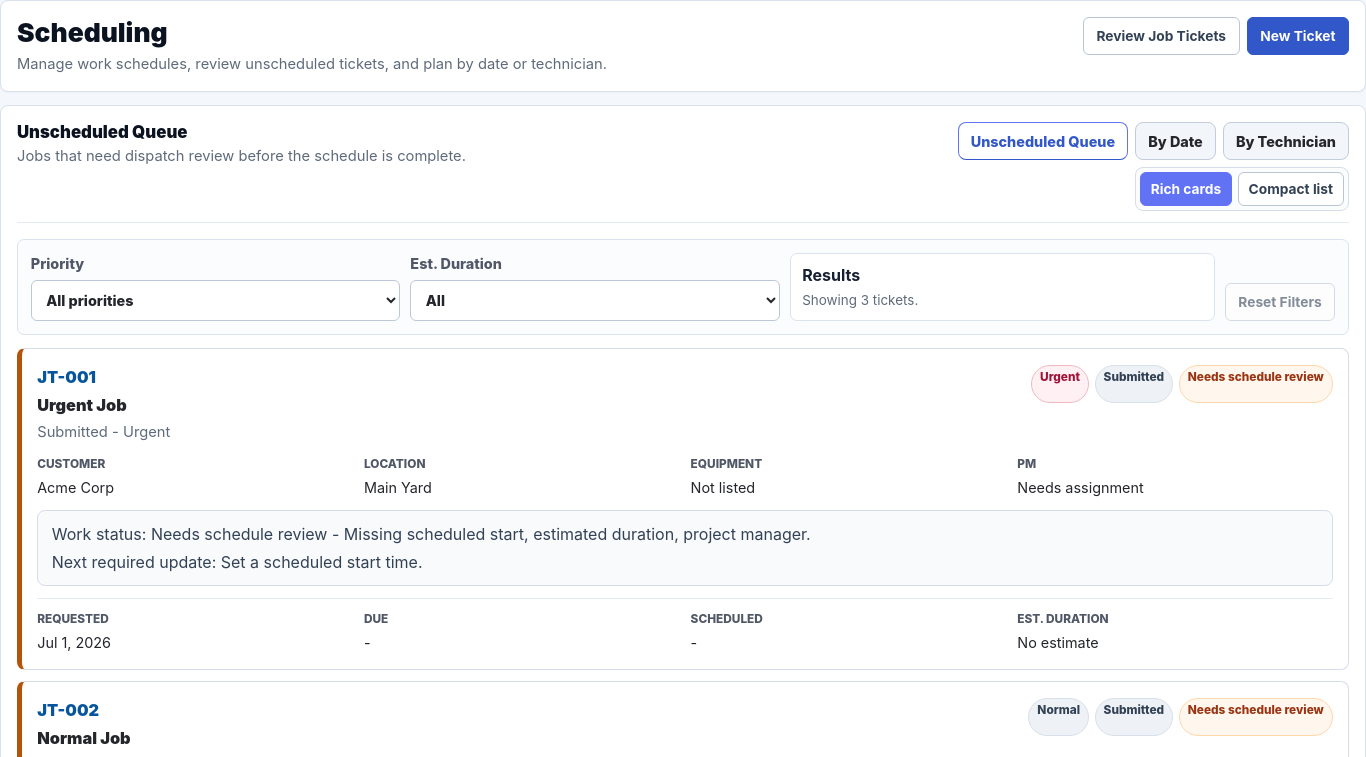
Test: SchedulePage — Priority filter › shows "no tickets match" message when no tickets match the filter
Expected: the link "JT-001" is shown, [37,366,96,386]
Select "High" in the dropdown labelled "Priority": (215, 301) [31,280,400,321]
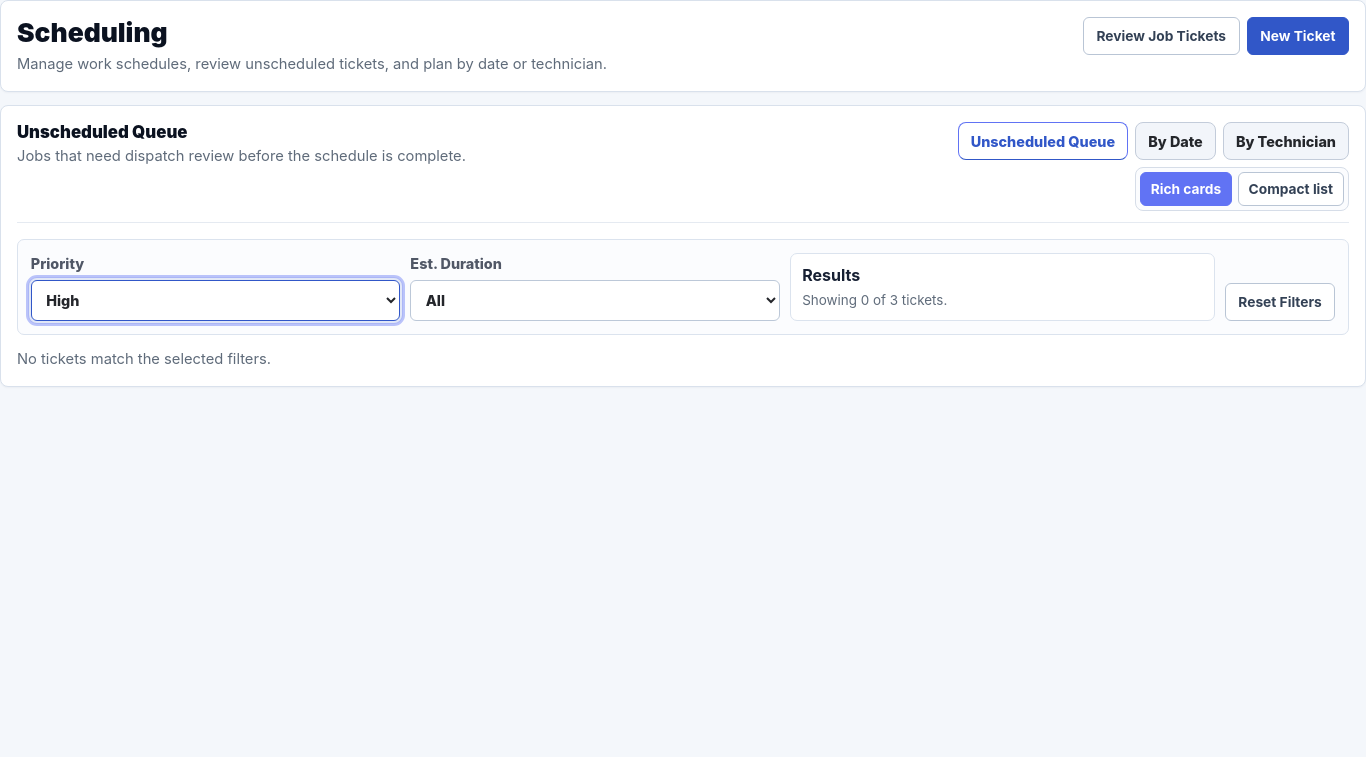
Now the text "No tickets match the selected filters." is shown, box [17,350,271,368]
